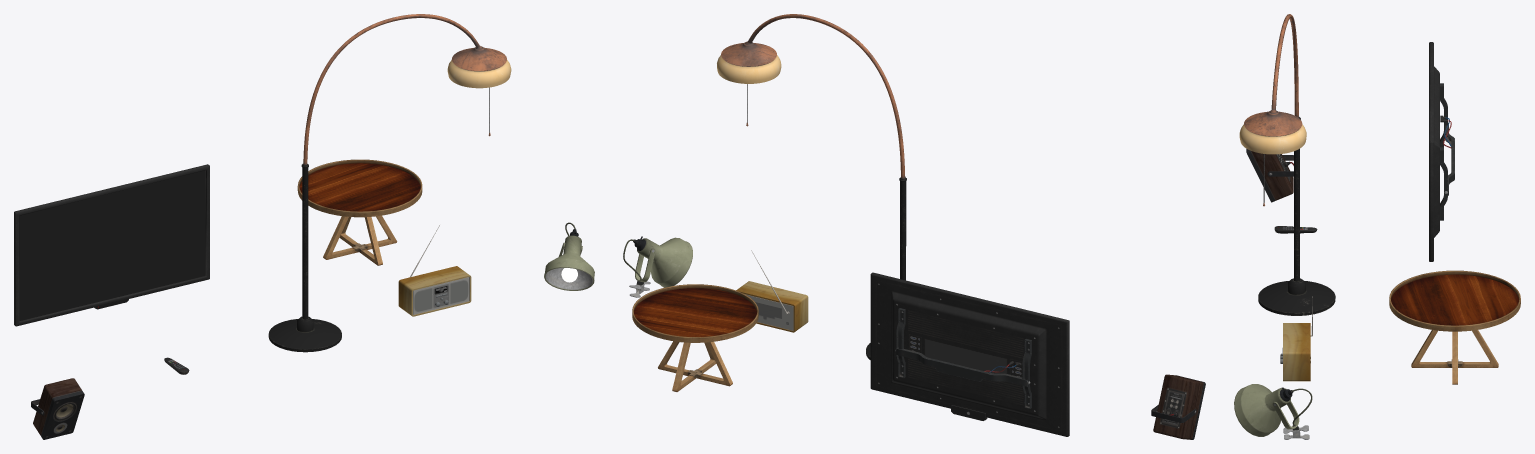
The picture shows the model from 3 angles, left to right: view 1: azimuth 30°, elevation 25°; view 2: azimuth 150°, elevation 25°; view 3: azimuth 270°, elevation 25°; orthographic projection. The views are drawn at different scales.
Visible parts, largest first — view 1: Props_LivingRoom_A_TV_A_2, Table_LivingRoom_A_Table_LivingRoom_C_3, Lamp_Floor_A_Lamp_Floor_B2_5, Radio_A2_6, Props_LivingRoom_A_Speaker_B_1, Clip_Lamp_Clip_Lamp_B2_4; view 2: Props_LivingRoom_A_TV_A_2, Table_LivingRoom_A_Table_LivingRoom_C_3, Lamp_Floor_A_Lamp_Floor_B2_5, Props_LivingRoom_A_Speaker_B_1, Clip_Lamp_Clip_Lamp_B2_4, Radio_A2_6; view 3: Table_LivingRoom_A_Table_LivingRoom_C_3, Lamp_Floor_A_Lamp_Floor_B2_5, Props_LivingRoom_A_TV_A_2, Clip_Lamp_Clip_Lamp_B2_4, Radio_A2_6, Props_LivingRoom_A_Speaker_B_1.
Boxes of the visible parts, <box> form: Props_LivingRoom_A_TV_A_2: <box>14,164,209,326</box>; Table_LivingRoom_A_Table_LivingRoom_C_3: <box>297,159,422,265</box>; Lamp_Floor_A_Lamp_Floor_B2_5: <box>268,14,511,352</box>; Radio_A2_6: <box>398,225,471,316</box>; Props_LivingRoom_A_Speaker_B_1: <box>31,378,84,439</box>; Clip_Lamp_Clip_Lamp_B2_4: <box>544,222,594,290</box>; Props_LivingRoom_A_TV_A_2: <box>870,272,1069,436</box>; Table_LivingRoom_A_Table_LivingRoom_C_3: <box>632,284,758,391</box>; Lamp_Floor_A_Lamp_Floor_B2_5: <box>717,14,906,359</box>; Props_LivingRoom_A_Speaker_B_1: <box>1151,374,1205,439</box>; Clip_Lamp_Clip_Lamp_B2_4: <box>623,236,692,297</box>; Radio_A2_6: <box>736,250,808,332</box>; Table_LivingRoom_A_Table_LivingRoom_C_3: <box>1389,270,1520,384</box>; Lamp_Floor_A_Lamp_Floor_B2_5: <box>1239,14,1335,315</box>; Props_LivingRoom_A_TV_A_2: <box>1429,42,1454,261</box>; Clip_Lamp_Clip_Lamp_B2_4: <box>1234,384,1312,439</box>; Radio_A2_6: <box>1280,296,1312,381</box>; Props_LivingRoom_A_Speaker_B_1: <box>1246,149,1293,202</box>.
Size of the model in its own units: 4.21 by 2.44 by 1.81.
6 materials, 6 textured.
